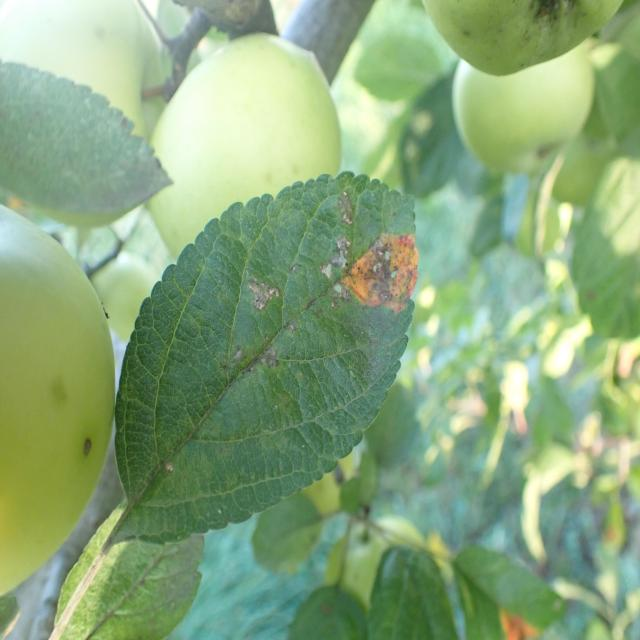Rust: (311, 209, 444, 340)
